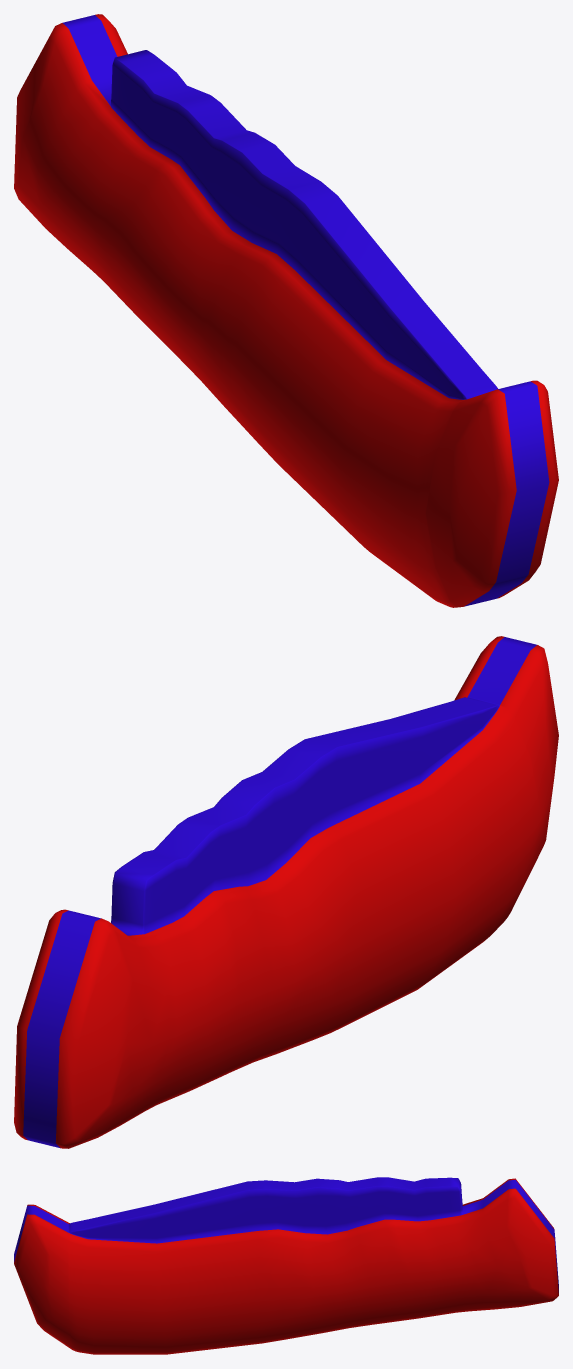
Rendered from PocketKnife.fbx.
3 views of the same model, one above another, from view 1: azimuth 30°, elevation 25°; view 2: azimuth 150°, elevation 25°; view 3: azimuth 270°, elevation 25° (orthographic). The views are drawn at different scales.
Parts seen in each view (by area): view 1: Pocket Knife; view 2: Pocket Knife; view 3: Pocket Knife.
Boxes of the visible parts, <box> form: Pocket Knife: <box>14,14,558,607</box>; Pocket Knife: <box>14,636,558,1148</box>; Pocket Knife: <box>14,1177,558,1354</box>.
Size of the model in its own units: 1.92 by 4.79 by 14.13.
